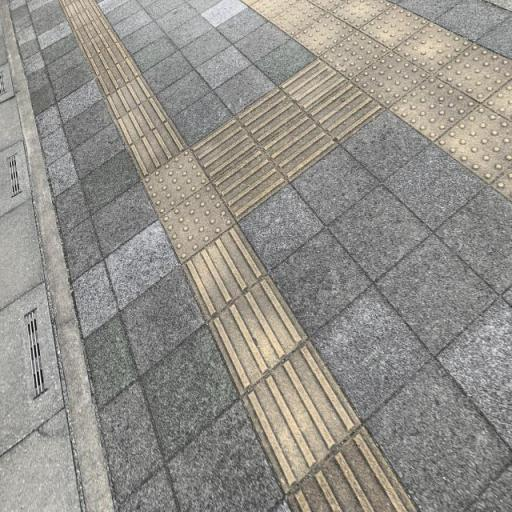dot: (158, 181, 238, 265), (387, 75, 481, 143), (347, 50, 432, 109), (142, 149, 210, 219), (432, 42, 511, 102), (391, 21, 474, 76), (318, 29, 392, 80), (358, 4, 432, 50), (290, 12, 358, 58), (269, 0, 328, 36)
line: (237, 341, 362, 500), (206, 273, 310, 394), (182, 225, 268, 323), (210, 147, 289, 222), (259, 113, 339, 182), (305, 81, 387, 143), (188, 117, 259, 181), (234, 86, 306, 147), (277, 57, 348, 109), (125, 120, 187, 179), (112, 95, 169, 148), (103, 74, 155, 121), (94, 56, 142, 98), (87, 41, 131, 77), (80, 26, 121, 62)
